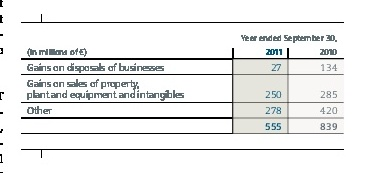table: (0, 0, 369, 173)
